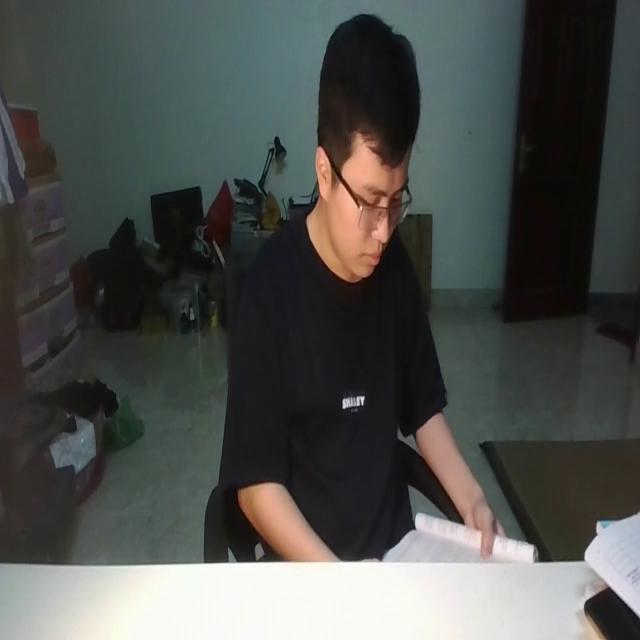book: (379, 511, 540, 569)
student: (221, 11, 510, 562)
